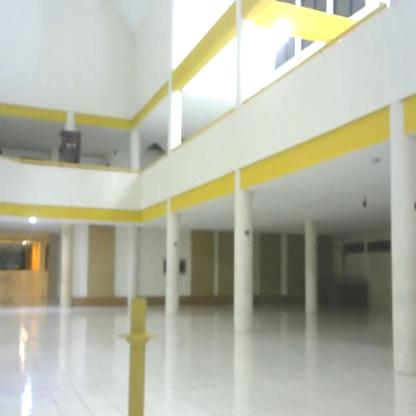pole: (117, 291, 159, 416)
